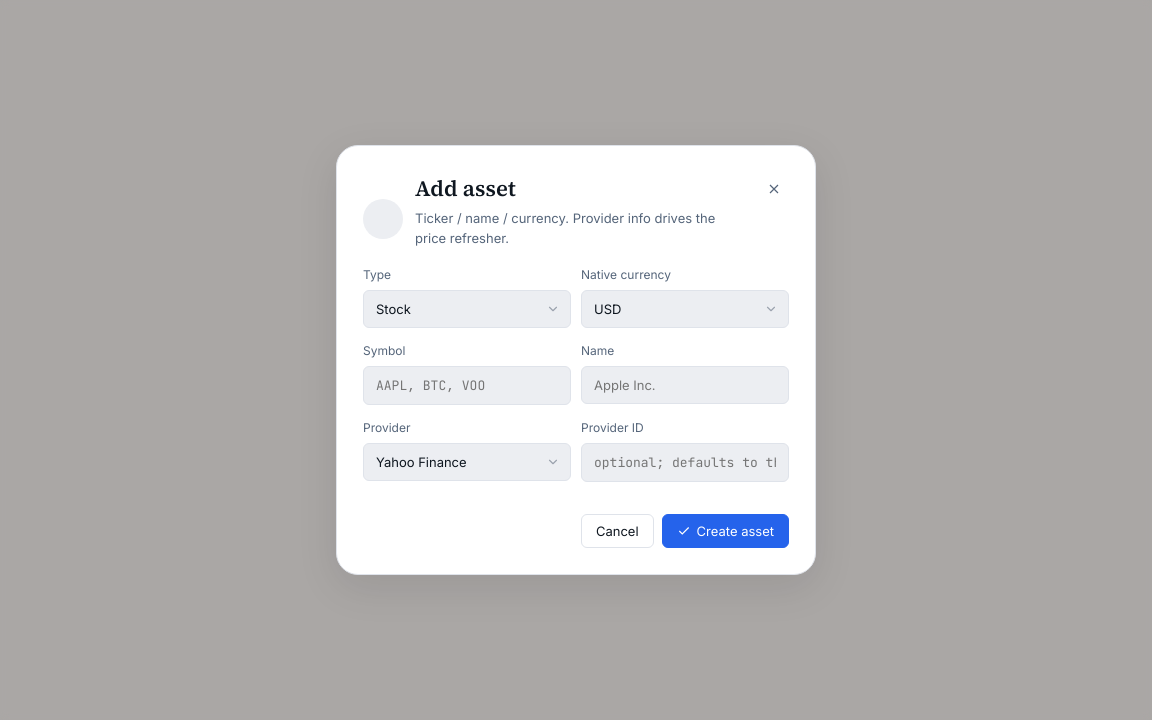
Test case: AssetModal — type → provider auto-snap › switching to Crypto snaps Provider to coingecko
This screenshot has width=1152, height=720.
Select "Crypto" in the dropdown below "Type" at (467, 309), box [363,290,571,328]
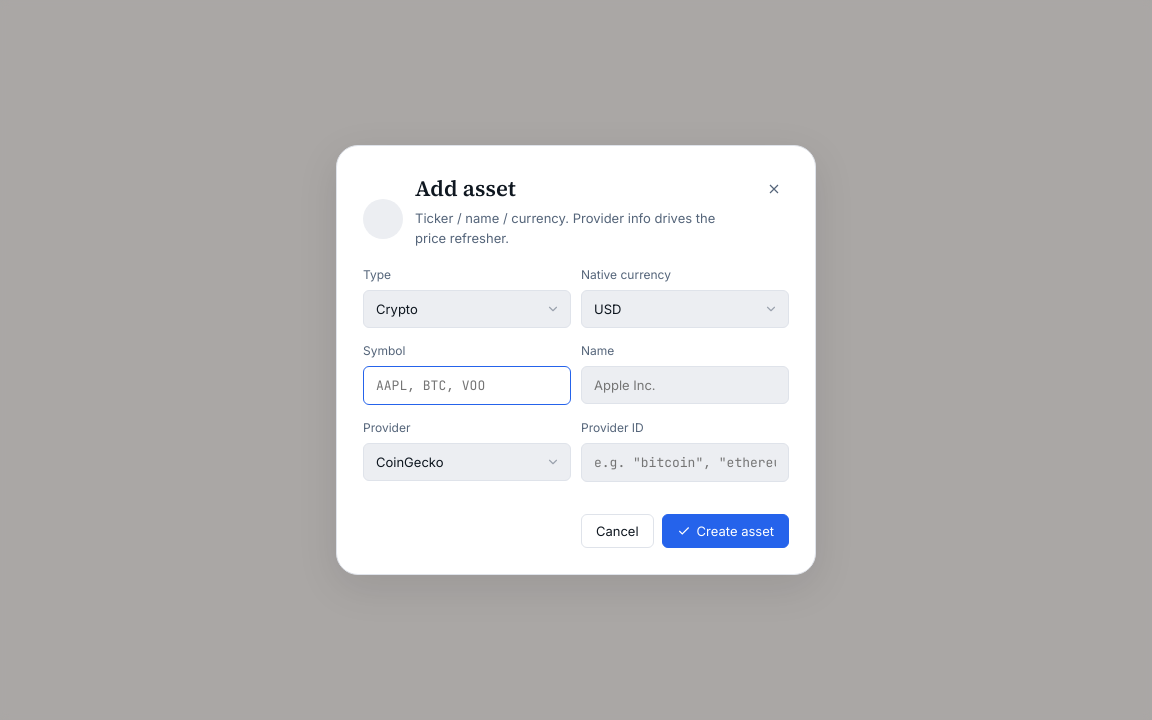
Check: the dropdown below "Provider ID" shows "CoinGecko", box [363,443,571,481]
